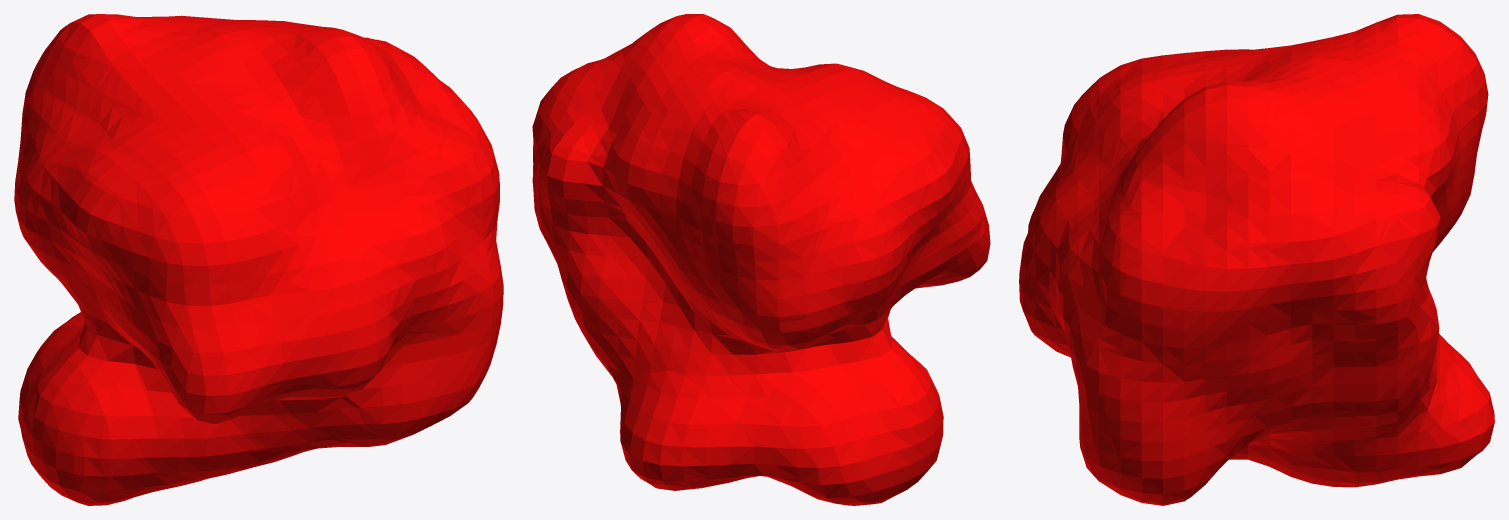
The model's file is ypfH_coarse.dae.
The picture shows the model from 3 angles, left to right: view 1: azimuth 30°, elevation 25°; view 2: azimuth 150°, elevation 25°; view 3: azimuth 270°, elevation 25°; orthographic projection. The views are drawn at different scales.
Parts seen in each view (by area): view 1: ypfH; view 2: ypfH; view 3: ypfH.
Part boxes in pixels (<box>): ypfH: <box>14,14,503,505</box>; ypfH: <box>532,14,990,505</box>; ypfH: <box>1019,14,1494,505</box>.
Bounding box in the file's own units: 43.72 × 43.26 × 41.14.
